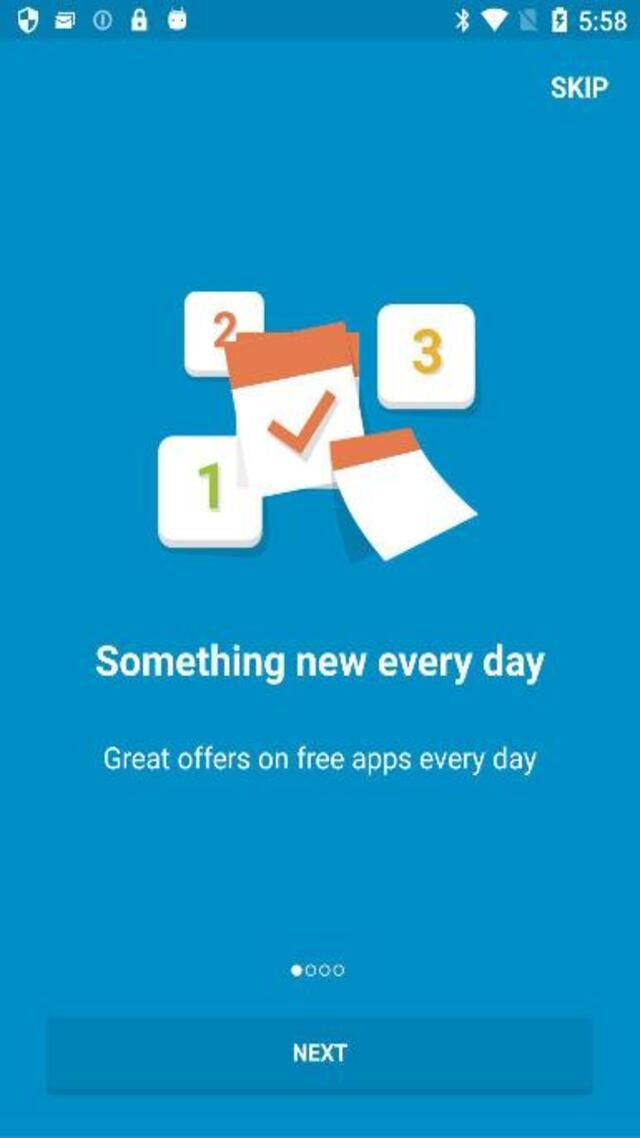Image: (158, 293, 480, 561)
Text: (95, 642, 542, 684), (105, 745, 537, 777), (284, 1036, 354, 1068), (552, 76, 608, 98)
TextButton: (48, 1016, 594, 1096)
